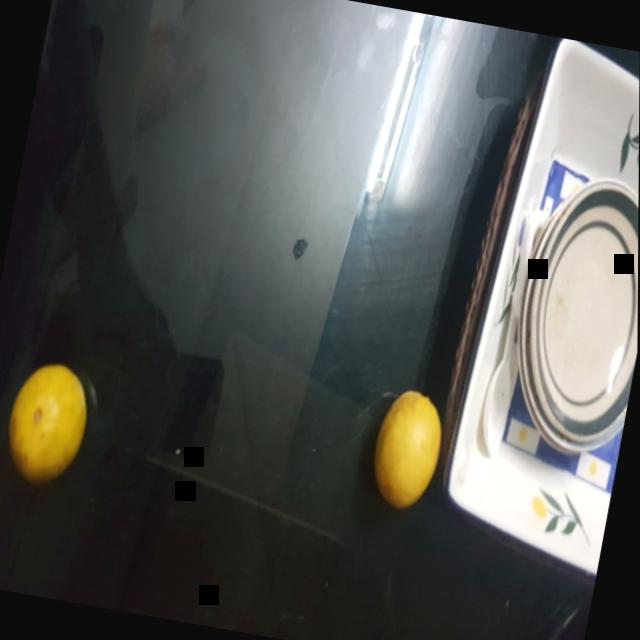lemon: (0, 353, 101, 488), (363, 383, 456, 517)
